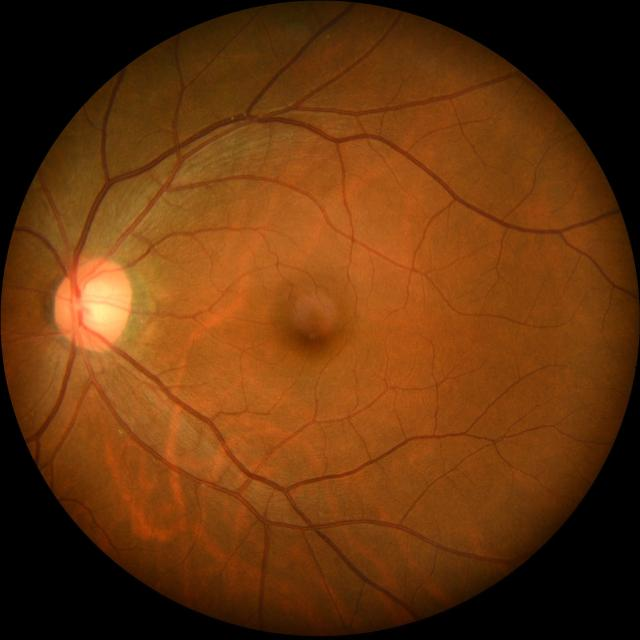OC: (77, 277, 116, 330)
OD: (55, 256, 133, 350)
